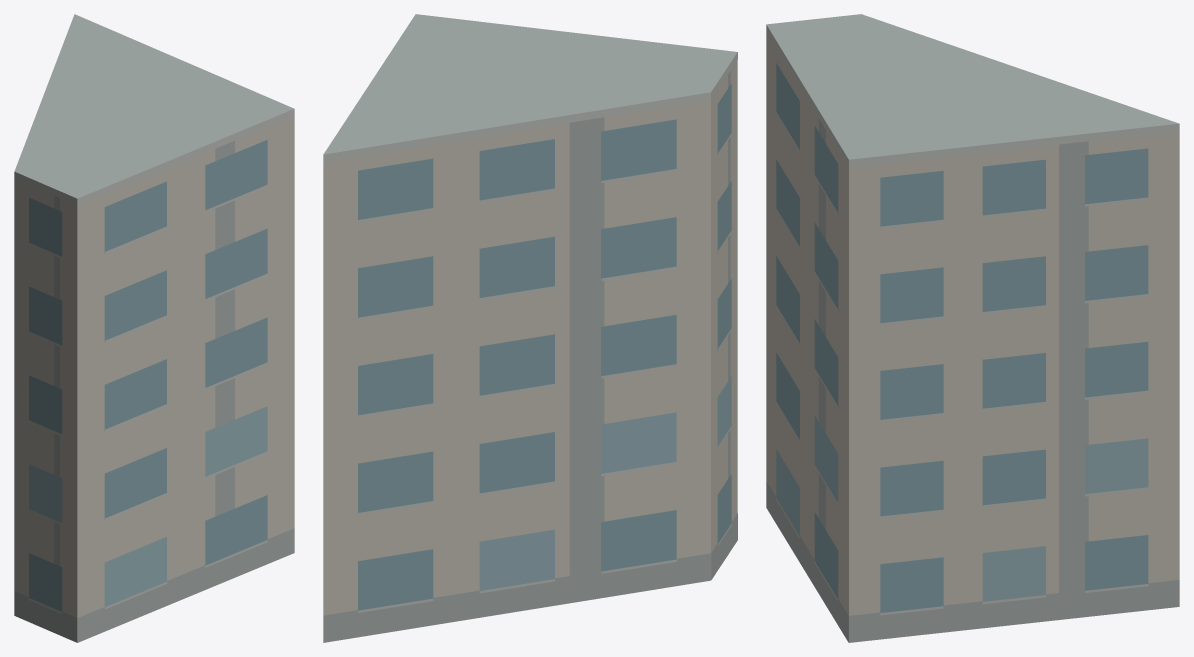
The model's file is residential-7e83b6ca-63f8-4dc1-8ea4-b4e5287860e3.glb.
3 views of the same model, side by side, from view 1: azimuth 30°, elevation 25°; view 2: azimuth 150°, elevation 25°; view 3: azimuth 270°, elevation 25° (orthographic). The views are drawn at different scales.
Visible parts, largest first — view 1: residential-7e83b6ca-63f8-4dc1-8ea4-b4e5287860e3.tmp; view 2: residential-7e83b6ca-63f8-4dc1-8ea4-b4e5287860e3.tmp; view 3: residential-7e83b6ca-63f8-4dc1-8ea4-b4e5287860e3.tmp.
Boxes of the visible parts, x1,y1,x2,y2 form: residential-7e83b6ca-63f8-4dc1-8ea4-b4e5287860e3.tmp: (14,14,294,642); residential-7e83b6ca-63f8-4dc1-8ea4-b4e5287860e3.tmp: (323,14,737,642); residential-7e83b6ca-63f8-4dc1-8ea4-b4e5287860e3.tmp: (766,14,1179,642).
Size of the model in its own units: 9.87 by 15.25 by 11.83.
